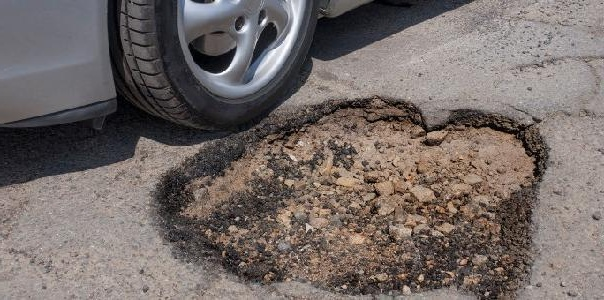pothole: (151, 92, 552, 297)
